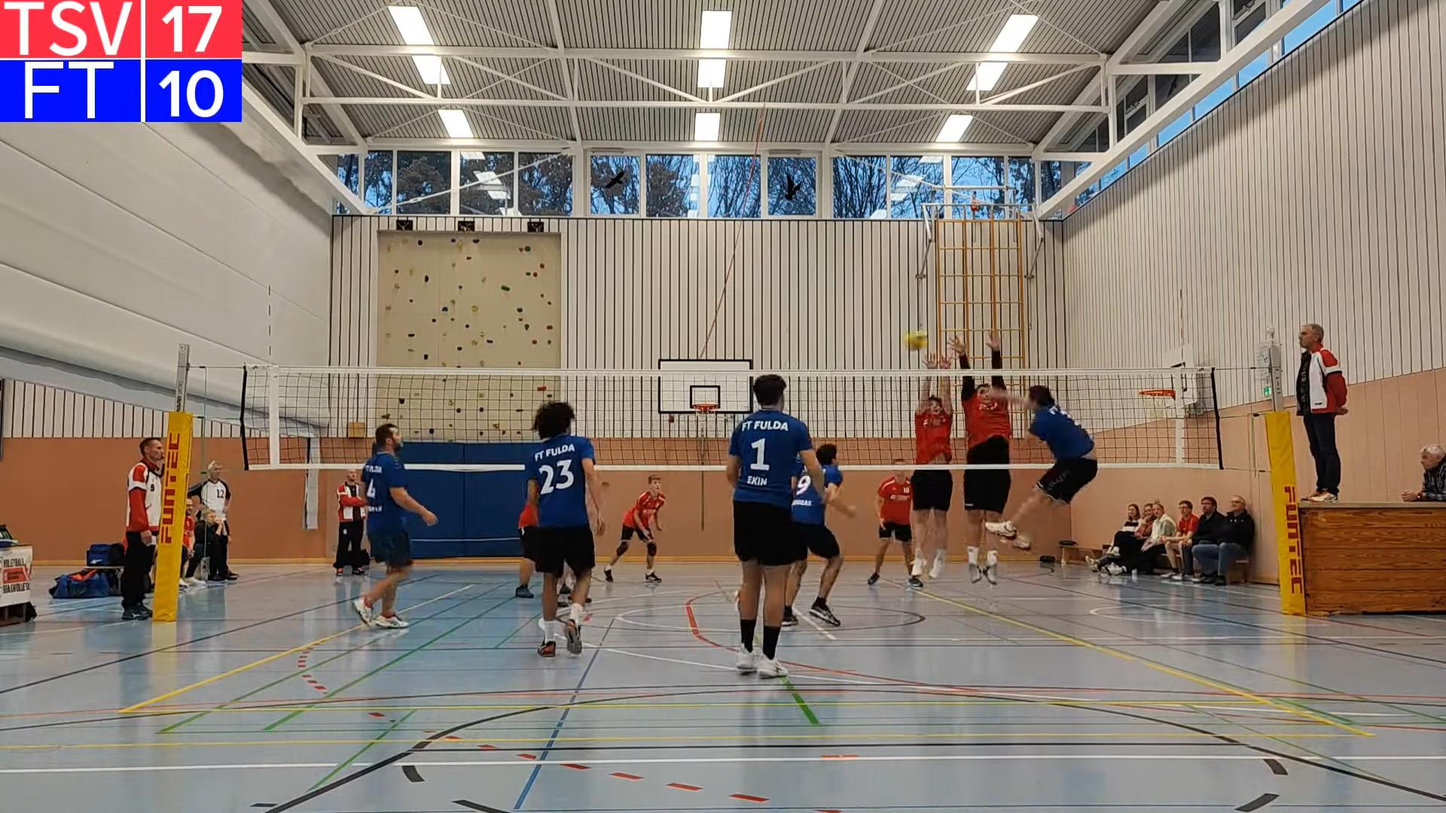attacco: (978, 378, 1100, 563)
muro: (950, 327, 1014, 585), (892, 343, 955, 584)
